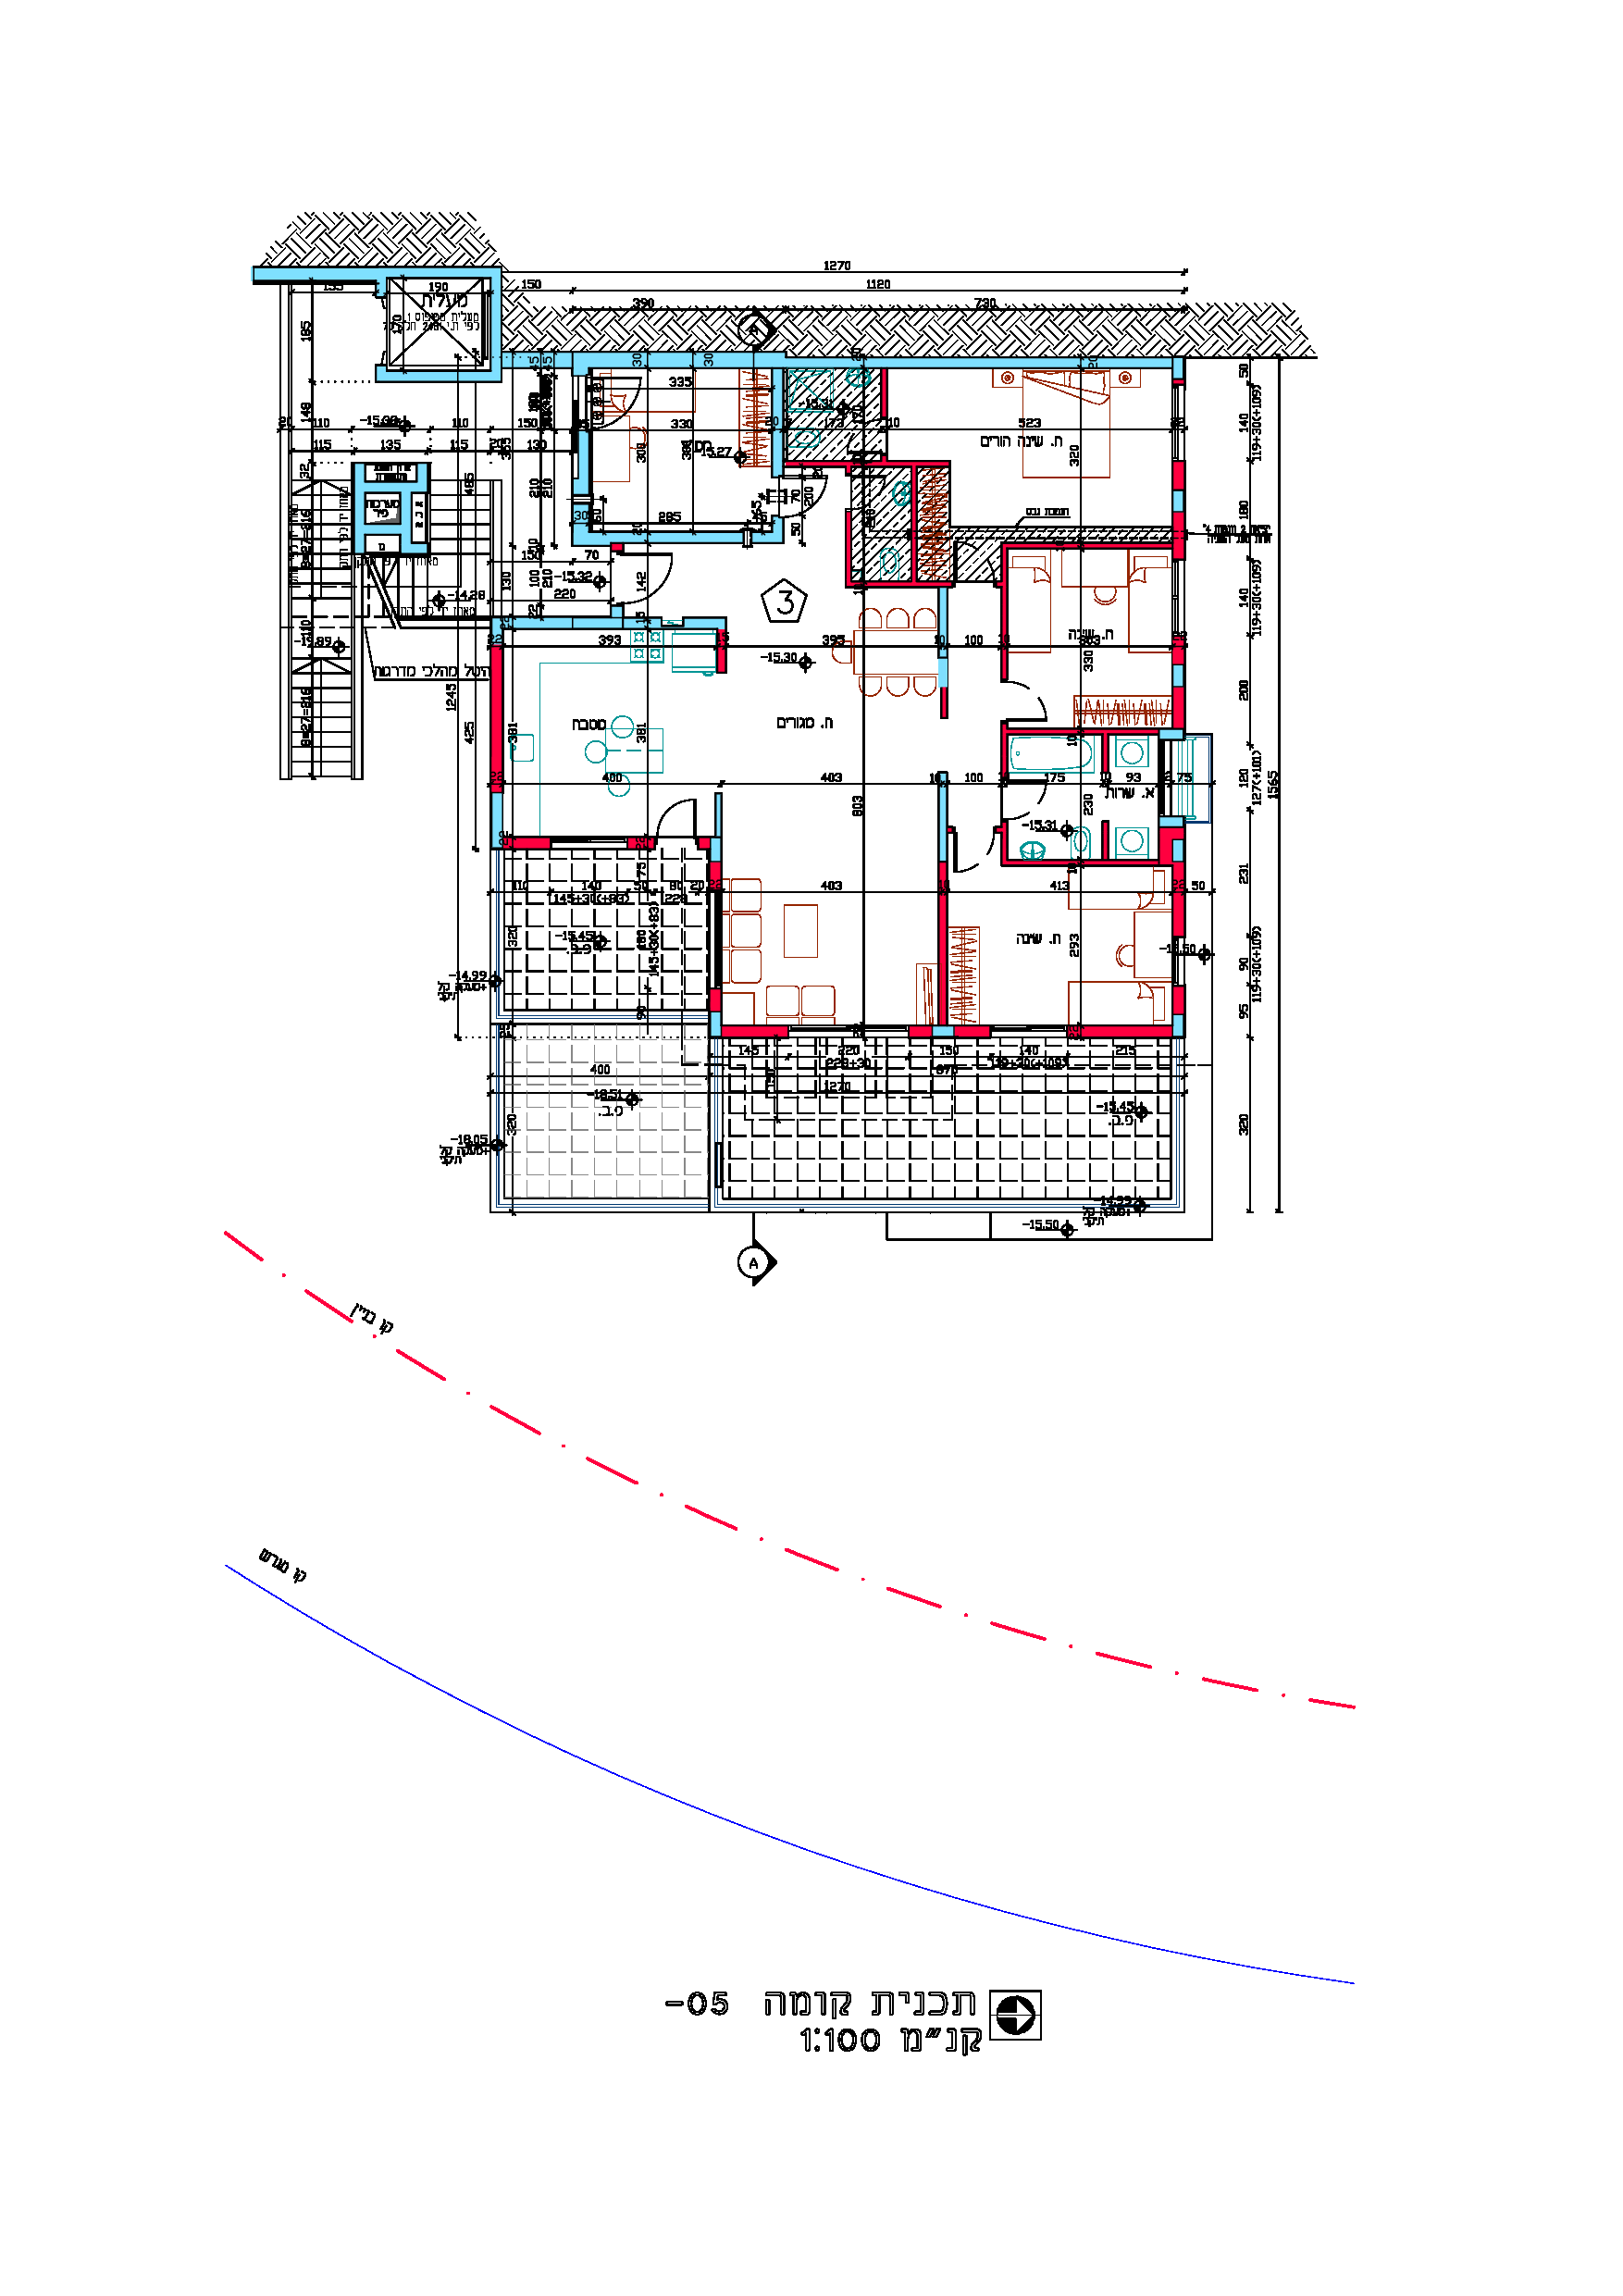door: (950, 834, 999, 885), (648, 798, 706, 834), (1013, 682, 1061, 720)
